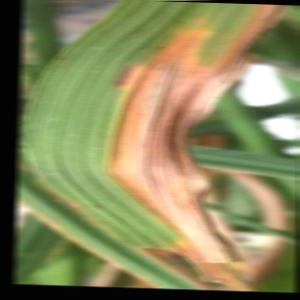Leaf_Blast: (54, 0, 211, 248)
